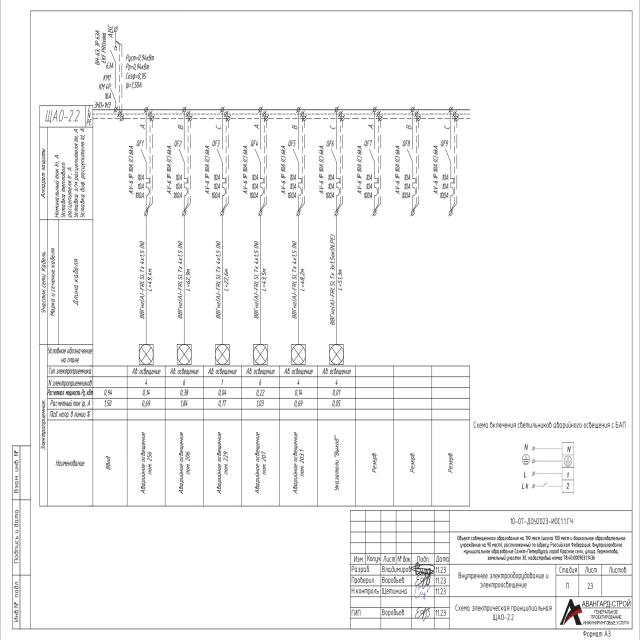-: (44, 107, 81, 125), (93, 82, 111, 110), (95, 29, 108, 67), (279, 142, 287, 195), (203, 144, 211, 197), (166, 143, 174, 196), (393, 144, 401, 197), (355, 144, 363, 196), (431, 145, 439, 197), (318, 144, 325, 197), (242, 144, 249, 196), (128, 143, 135, 195), (107, 23, 114, 41), (104, 60, 114, 70)
KM: (110, 85, 117, 102)
QF: (292, 142, 304, 204), (444, 143, 456, 205), (254, 142, 266, 204), (217, 143, 228, 205), (140, 143, 151, 205), (407, 142, 418, 204), (369, 140, 380, 202), (178, 143, 188, 205), (332, 141, 342, 203)
QS: (110, 45, 118, 64)
